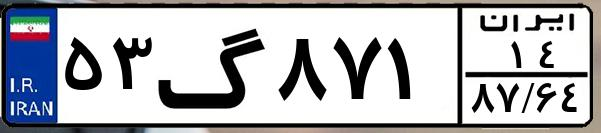1: (385, 28, 445, 110), (508, 27, 537, 80)
3: (110, 28, 156, 98)
4: (560, 70, 590, 125), (537, 27, 568, 80)
5: (57, 26, 110, 100)
6: (535, 70, 560, 125)
7: (330, 28, 385, 110), (495, 70, 520, 125)
8: (270, 28, 330, 110), (470, 70, 495, 125)
گ: (156, 12, 270, 120)
